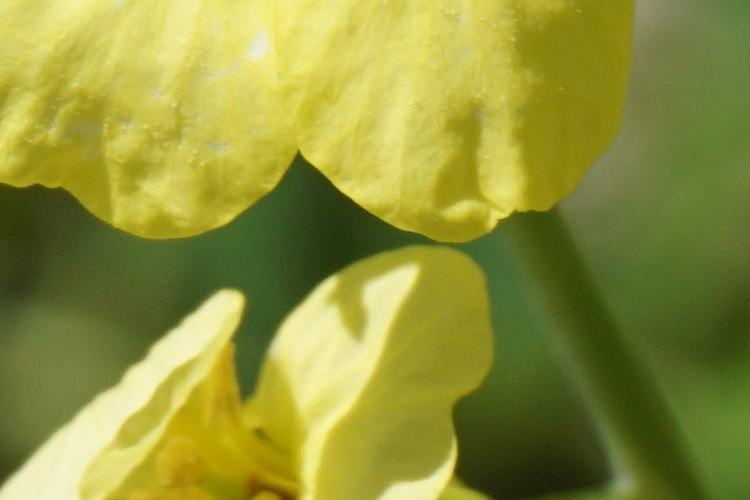yellow: (15, 12, 632, 252), (16, 256, 519, 494)
